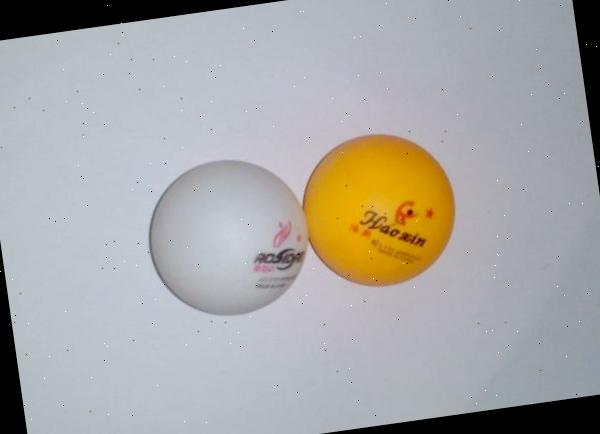ball: (130, 142, 322, 330), (289, 117, 469, 302)
